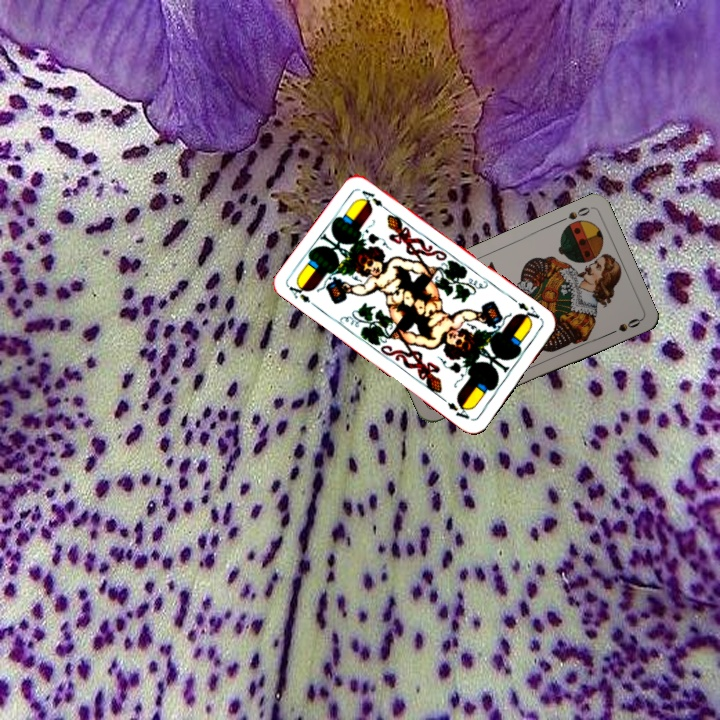EA: (285, 278, 320, 311), (513, 298, 545, 326)
SO: (555, 203, 594, 225)
